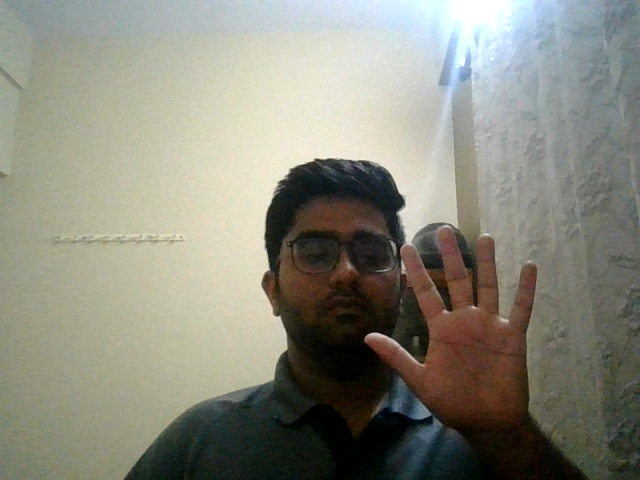Hello: (350, 212, 585, 449)
